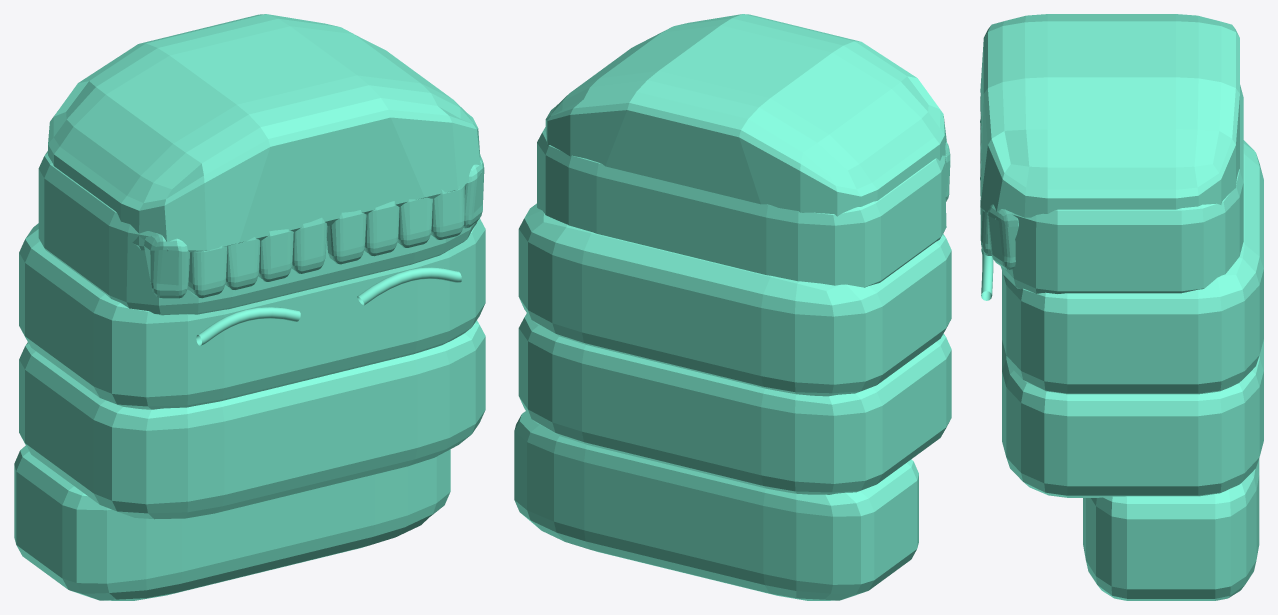
Rendered from mother_hair.glb.
3 views of the same model, side by side, from view 1: azimuth 30°, elevation 25°; view 2: azimuth 150°, elevation 25°; view 3: azimuth 270°, elevation 25° (orthographic). The views are drawn at different scales.
Visible parts, largest first — view 1: Roundcube.007, BezierCurve; view 2: Roundcube.007; view 3: Roundcube.007, BezierCurve.
Boxes of the visible parts, x1,y1,x2,y2 form: Roundcube.007: [14, 14, 485, 600]; BezierCurve: [196, 267, 461, 345]; Roundcube.007: [514, 14, 951, 600]; Roundcube.007: [980, 14, 1263, 600]; BezierCurve: [981, 248, 993, 300].
Bounding box in the file's own units: 5.82 × 7.32 × 3.88.
